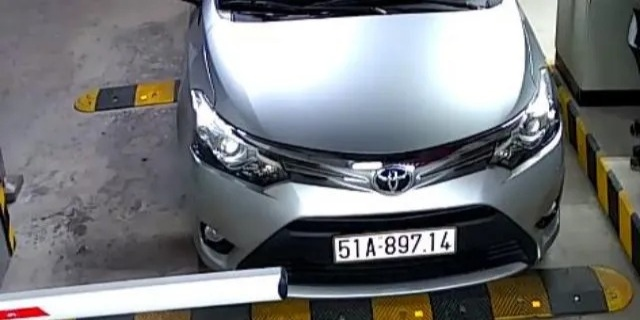bien_so: (333, 231, 455, 256)
